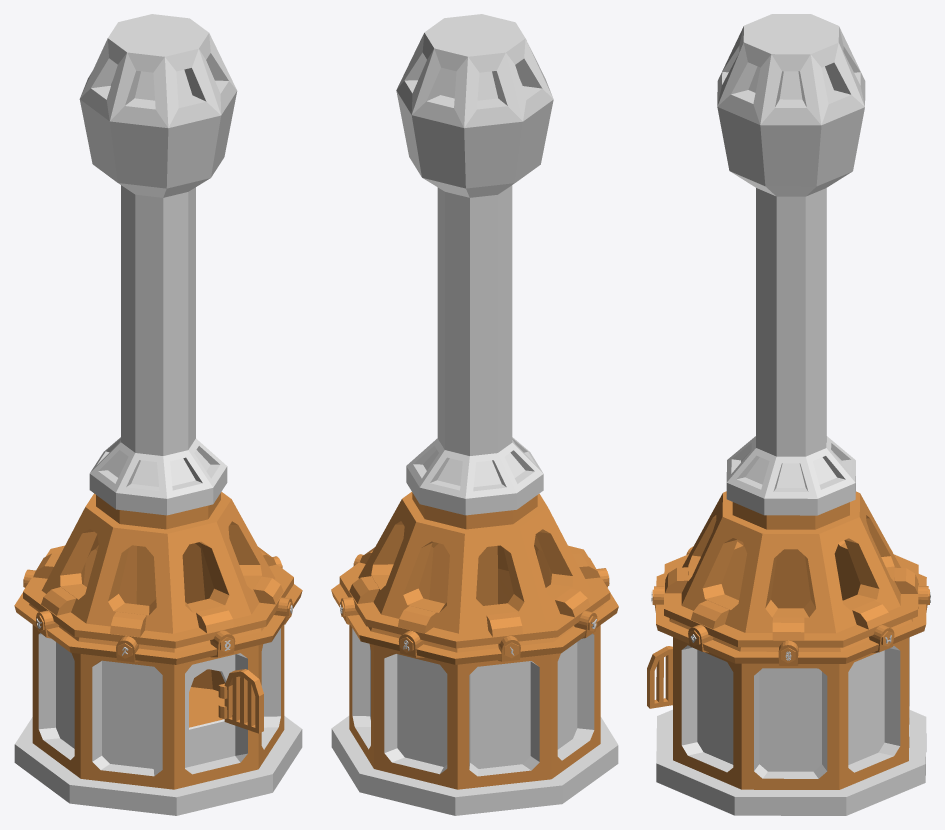
File: BlackSmithFurnace.fbx
3 views of the same model, side by side, from view 1: azimuth 30°, elevation 25°; view 2: azimuth 150°, elevation 25°; view 3: azimuth 270°, elevation 25° (orthographic).
Visible parts, largest first — view 1: Plane.043; view 2: Plane.043; view 3: Plane.043.
Boxes of the visible parts, x1,y1,x2,y2 form: Plane.043: [14, 14, 302, 815]; Plane.043: [331, 14, 618, 815]; Plane.043: [647, 14, 930, 815].
Bounding box in the file's own units: 449 × 1285 × 456.
